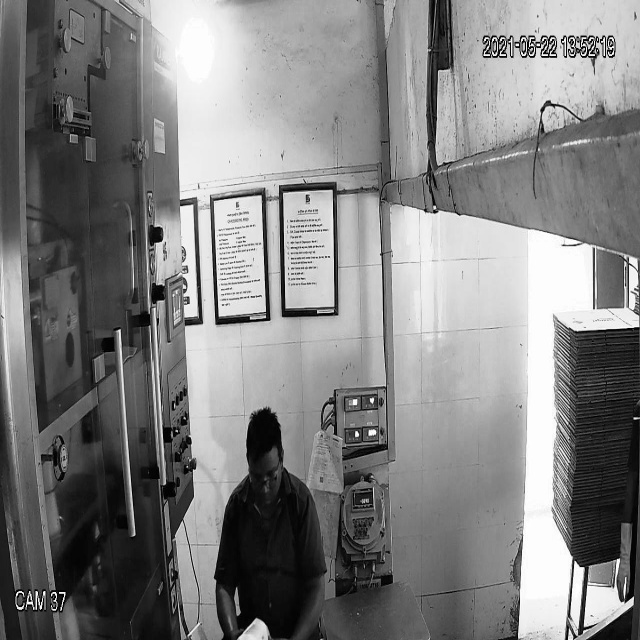Gafas: (245, 464, 281, 499)
